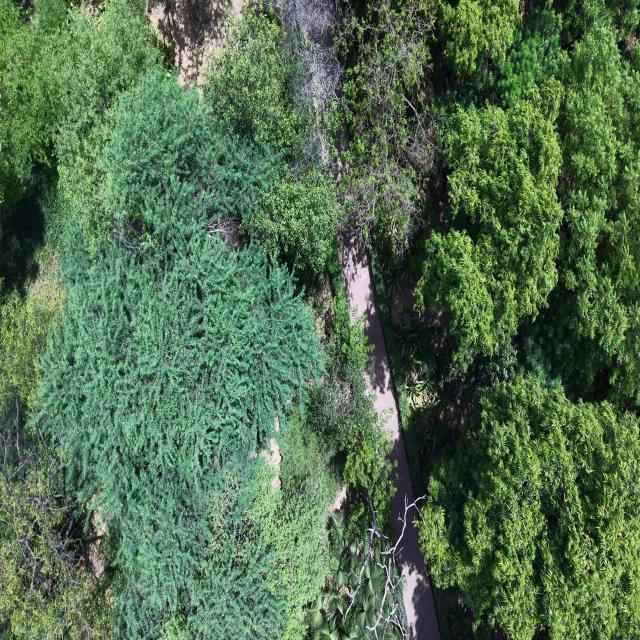DRY_AREA: (340, 242, 414, 538), (341, 242, 414, 535), (148, 0, 245, 86)
PATHWAYS: (340, 241, 414, 528)
VEGETATION_TREE: (0, 0, 639, 639), (0, 0, 393, 639), (40, 75, 390, 637), (345, 0, 639, 638), (40, 75, 323, 637), (41, 212, 322, 637), (0, 0, 158, 638), (414, 2, 637, 407), (420, 376, 639, 639), (256, 291, 405, 637), (415, 79, 562, 370), (0, 257, 111, 639), (538, 18, 639, 407), (0, 0, 159, 239), (203, 12, 341, 281), (103, 73, 285, 247), (50, 0, 162, 241), (0, 405, 112, 639), (339, 0, 435, 255), (307, 292, 394, 530), (253, 415, 340, 638), (204, 12, 306, 154), (0, 3, 65, 208), (308, 515, 405, 639), (459, 3, 563, 108), (245, 168, 339, 278), (0, 252, 65, 406), (437, 0, 521, 76)
